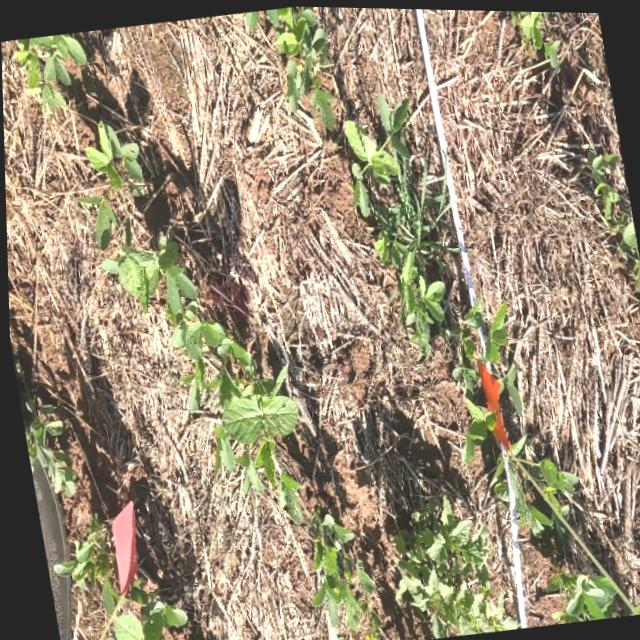caruru_weed: (391, 496, 515, 636)
grassy_weed: (343, 94, 453, 352)
soy_plant: (78, 122, 300, 522), (50, 517, 184, 640), (451, 303, 506, 460), (266, 5, 335, 127), (586, 141, 640, 287), (307, 514, 372, 627), (507, 433, 575, 533), (18, 34, 87, 109), (23, 407, 73, 495), (549, 570, 616, 621), (510, 9, 560, 65), (496, 362, 519, 411), (489, 456, 504, 497), (625, 599, 640, 613)
